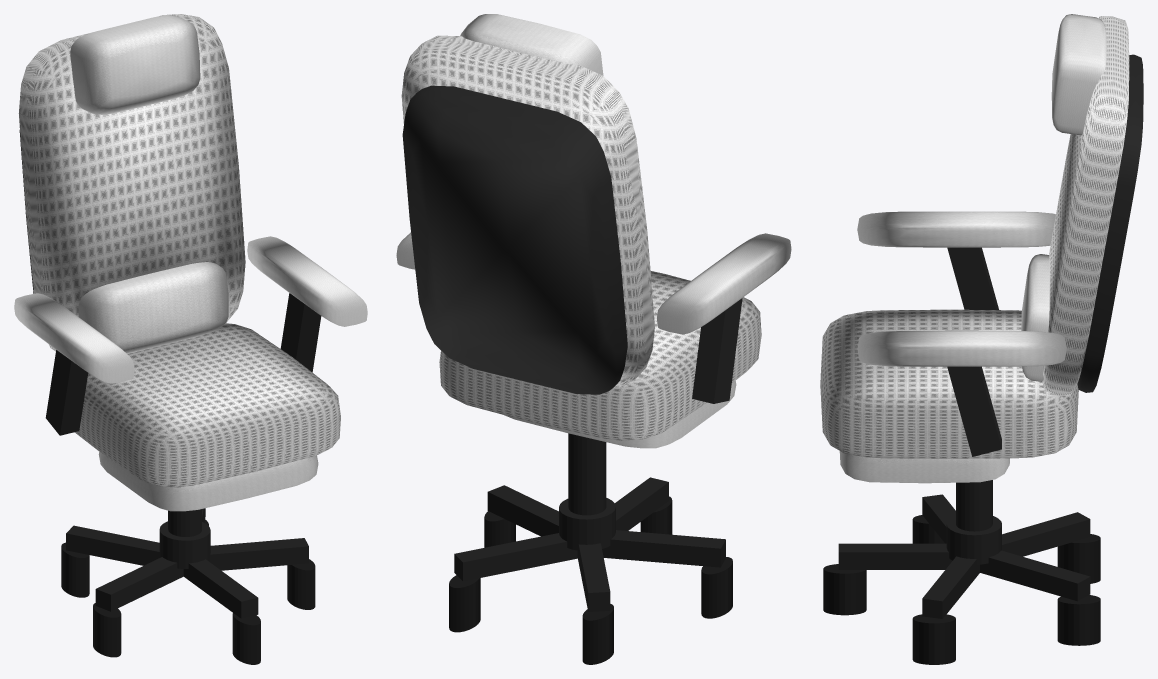
3 views of the same model, side by side, from view 1: azimuth 30°, elevation 25°; view 2: azimuth 150°, elevation 25°; view 3: azimuth 270°, elevation 25° (orthographic). The views are drawn at different scales.
Visible parts, largest first — view 1: 3 backrest, 1 seat, 5 headrest, 6 lumbar_pillow, 2 footrest, 7 left_armrest_pad, 8 right_armrest_pad, 14 base_spoke_2, 9 left_armrest_support, 16 base_spoke_4, 17 base_spoke_5, 13 base_spoke_1 (+7 smaller); view 2: 4 backrest_frame, 3 backrest, 1 seat, 7 left_armrest_pad, 5 headrest, 9 left_armrest_support, 17 base_spoke_5, 15 base_spoke_3, 11 gas_lift_cylinder, 14 base_spoke_2, 12 base_hub, 2 footrest (+7 smaller); view 3: 1 seat, 3 backrest, 8 right_armrest_pad, 7 left_armrest_pad, 4 backrest_frame, 5 headrest, 2 footrest, 10 right_armrest_support, 13 base_spoke_1, 15 base_spoke_3, 16 base_spoke_4, 6 lumbar_pillow (+10 smaller).
Part boxes in pixels (<box>): 3 backrest: <box>18,14,245,351</box>; 1 seat: <box>75,323,340,487</box>; 5 headrest: <box>70,15,200,114</box>; 6 lumbar_pillow: <box>78,262,228,353</box>; 2 footrest: <box>98,452,318,511</box>; 7 left_armrest_pad: <box>14,293,134,383</box>; 8 right_armrest_pad: <box>247,236,367,326</box>; 14 base_spoke_2: <box>209,538,308,570</box>; 9 left_armrest_support: <box>45,350,88,435</box>; 16 base_spoke_4: <box>66,525,159,565</box>; 17 base_spoke_5: <box>95,557,183,611</box>; 13 base_spoke_1: <box>183,559,258,618</box>; 4 backrest_frame: <box>402,85,627,394</box>; 3 backrest: <box>401,35,654,387</box>; 1 seat: <box>439,271,761,440</box>; 7 left_armrest_pad: <box>657,233,791,334</box>; 5 headrest: <box>460,14,603,75</box>; 9 left_armrest_support: <box>692,298,742,403</box>; 17 base_spoke_5: <box>602,530,725,567</box>; 15 base_spoke_3: <box>454,533,577,581</box>; 11 gas_lift_cylinder: <box>568,433,606,515</box>; 14 base_spoke_2: <box>487,485,558,536</box>; 12 base_hub: <box>559,498,615,550</box>; 2 footrest: <box>504,380,736,448</box>; 1 seat: <box>820,309,1078,458</box>; 3 backrest: <box>1042,16,1129,395</box>; 8 right_armrest_pad: <box>857,330,1066,366</box>; 7 left_armrest_pad: <box>857,211,1055,247</box>; 4 backrest_frame: <box>1077,54,1143,392</box>; 5 headrest: <box>1051,14,1106,135</box>; 2 footrest: <box>839,451,1009,483</box>; 10 right_armrest_support: <box>947,366,1001,456</box>; 13 base_spoke_1: <box>838,543,952,569</box>; 15 base_spoke_3: <box>980,550,1090,601</box>; 16 base_spoke_4: <box>1002,512,1090,556</box>; 6 lumbar_pillow: <box>1021,254,1049,381</box>.
Size of the model in its own units: 0.51 by 1 by 0.51.
Materials: 5 (2 with a texture image).
